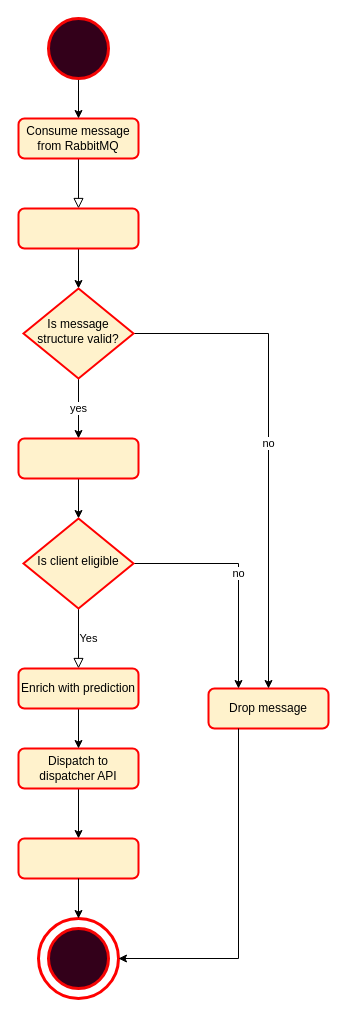
The diagram is 346 pixels wide and 1017 high, and some of its shapes have lost their labels. Here are the shapes that lost their labels. From the top down, the centre of each, then its label:
At (x=78, y=228): "Parse message de json".
At (x=78, y=458): "Get subscription".
At (x=78, y=858): "Update subscription".
